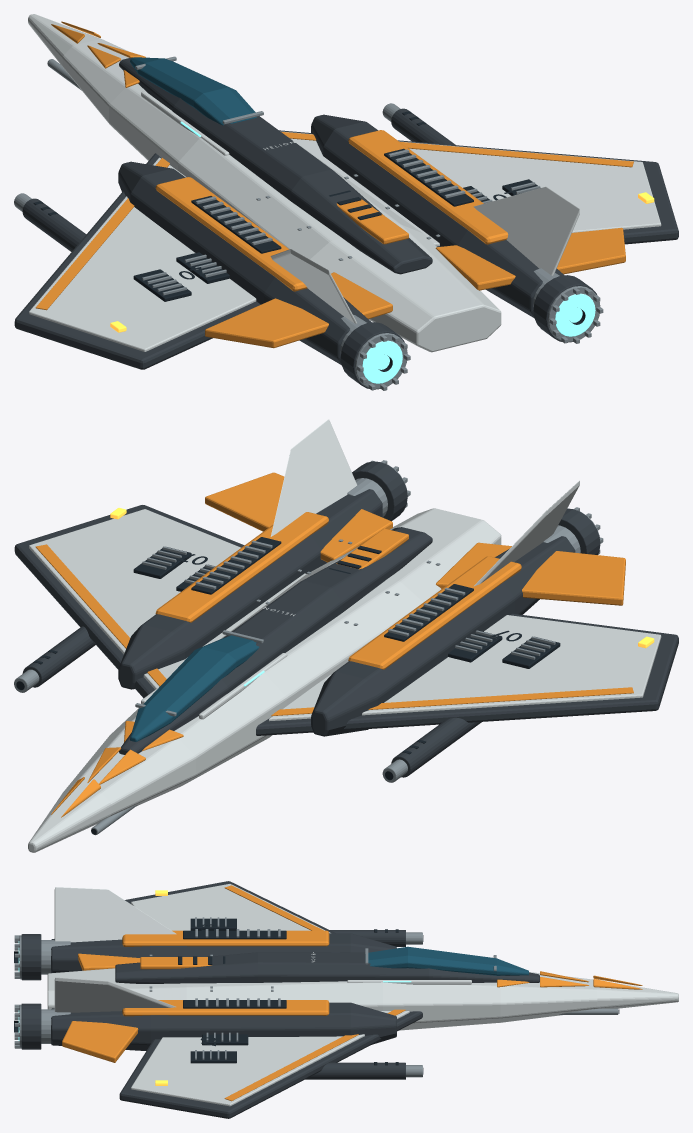
Rendered from ship_vanguard_mk3.glb.
3 renders of one model, top to bottom at view 1: azimuth 30°, elevation 25°; view 2: azimuth 150°, elevation 25°; view 3: azimuth 270°, elevation 25°, orthographic. The views are drawn at different scales.
Visible parts, largest first — view 1: vanguard_ceramic, vanguard_titanium, vanguard_hull, vanguard_machinery, vanguard_graphite, vanguard_canopy, vanguard_engine; view 2: vanguard_ceramic, vanguard_titanium, vanguard_hull, vanguard_machinery, vanguard_graphite, vanguard_canopy; view 3: vanguard_ceramic, vanguard_titanium, vanguard_hull, vanguard_graphite, vanguard_machinery, vanguard_canopy.
Part boxes in pixels (box(x1,y1,x2,y2)): vanguard_ceramic: box(28, 14, 661, 352); vanguard_titanium: box(14, 58, 678, 389); vanguard_hull: box(35, 21, 633, 348); vanguard_machinery: box(14, 56, 603, 390); vanguard_graphite: box(33, 111, 585, 371); vanguard_canopy: box(130, 57, 256, 125); vanguard_engine: box(180, 121, 595, 383); vanguard_ceramic: box(28, 419, 661, 852); vanguard_titanium: box(14, 461, 678, 777); vanguard_hull: box(35, 472, 633, 817); vanguard_machinery: box(14, 460, 603, 835); vanguard_graphite: box(16, 537, 560, 834); vanguard_canopy: box(130, 635, 259, 741); vanguard_ceramic: box(47, 884, 678, 1106); vanguard_titanium: box(21, 881, 539, 1118); vanguard_hull: box(62, 885, 642, 1101); vanguard_graphite: box(14, 918, 619, 1074); vanguard_machinery: box(14, 917, 618, 1077); vanguard_canopy: box(365, 946, 528, 975).
Bounding box in the file's own units: 15.35 × 2.69 × 18.64.
